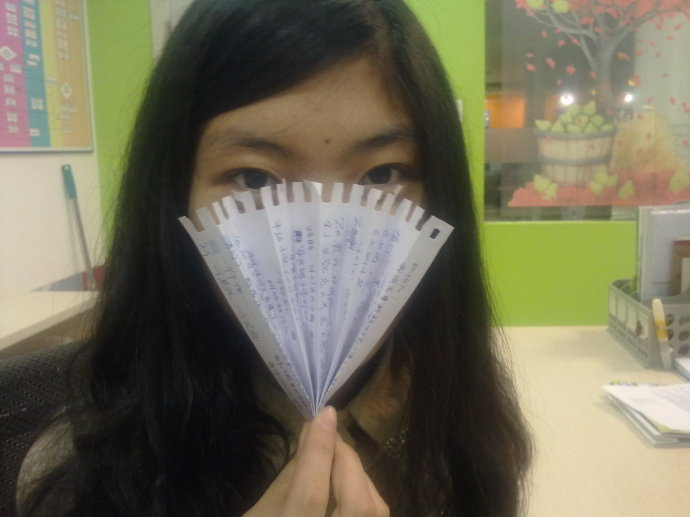face: (192, 57, 429, 372)
